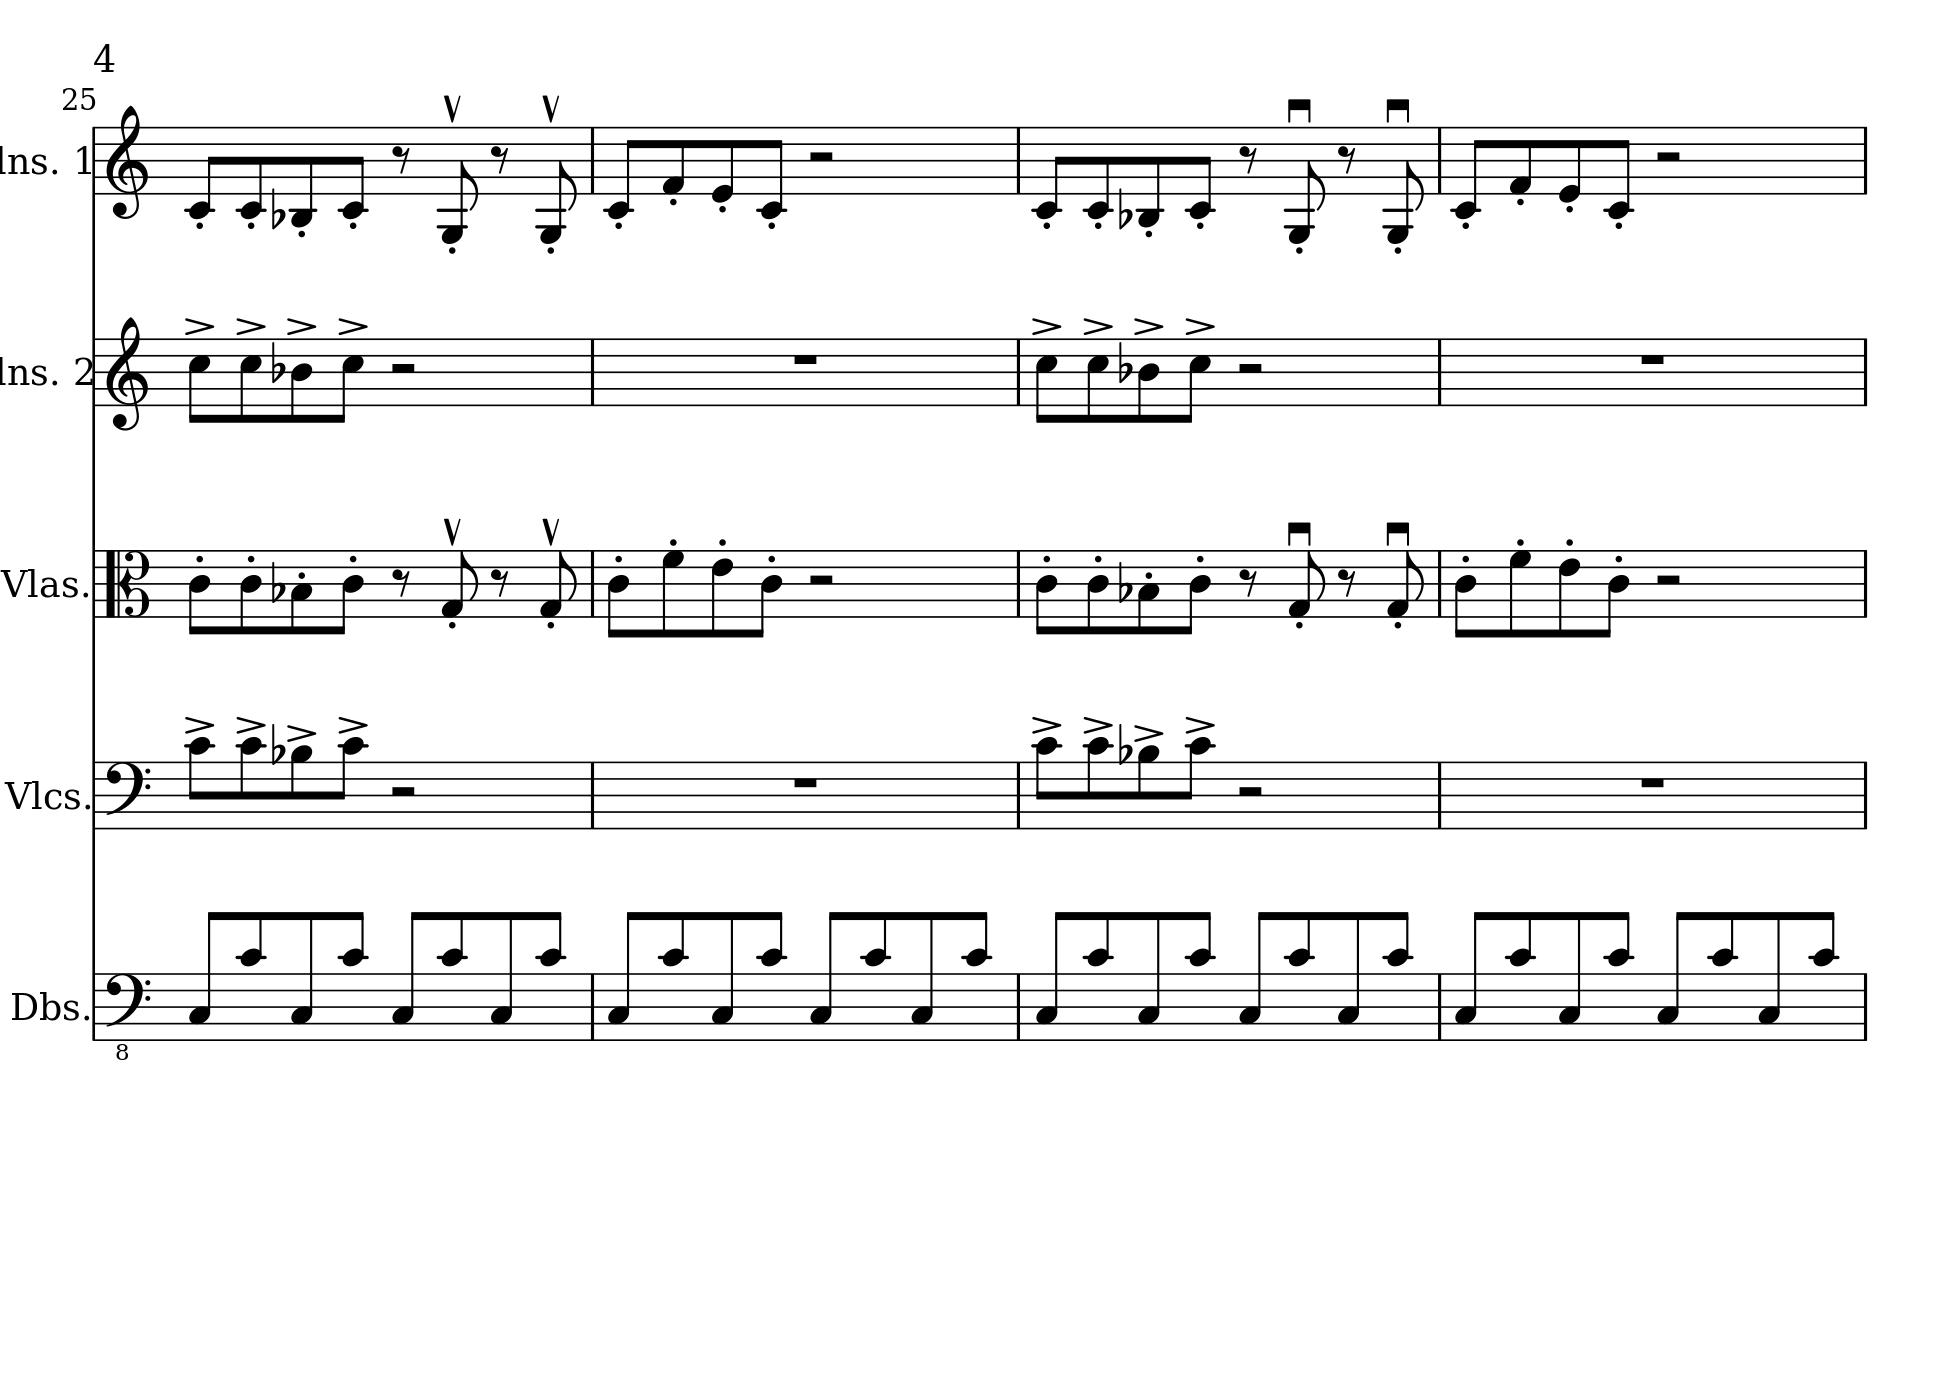2: (60, 85, 79, 112)
4: (93, 40, 115, 72)
5: (79, 84, 96, 112)
8_-2: (184, 123, 223, 220), (603, 124, 640, 220), (1450, 124, 1488, 220), (1032, 124, 1068, 217), (1185, 124, 1216, 219), (235, 124, 265, 220), (337, 124, 367, 220), (756, 124, 786, 220), (1605, 124, 1633, 220), (1084, 124, 1113, 219)
8_-3: (288, 124, 316, 226), (1137, 124, 1164, 226)
8_-5: (1284, 124, 1327, 244), (436, 124, 478, 246), (535, 123, 577, 244), (1383, 124, 1425, 244)
8_0: (709, 124, 736, 205), (1557, 124, 1584, 204)
8_1: (1287, 547, 1329, 618), (439, 547, 480, 616), (1386, 549, 1426, 618), (538, 547, 577, 618), (660, 124, 687, 196), (1507, 124, 1534, 196)
8_10: (1707, 909, 1738, 1044), (235, 907, 265, 1042), (535, 907, 565, 1042), (1185, 907, 1215, 1042), (1603, 907, 1633, 1042), (1809, 907, 1839, 1042), (337, 909, 367, 1042), (658, 909, 688, 1042), (961, 909, 991, 1042), (1083, 909, 1113, 1042), (1284, 909, 1314, 1042), (1383, 909, 1413, 1042), (1506, 909, 1536, 1042), (438, 909, 466, 1042), (757, 909, 786, 1042), (861, 909, 889, 1042), (1176, 735, 1215, 831), (328, 733, 366, 831), (1033, 733, 1065, 831), (184, 735, 216, 829), (1086, 735, 1114, 831), (237, 736, 265, 831)
8_3: (184, 907, 223, 1039), (808, 907, 846, 1044), (390, 907, 426, 1044), (606, 909, 642, 1044), (1035, 907, 1071, 1042), (1656, 907, 1692, 1042), (1455, 909, 1489, 1042), (1239, 907, 1272, 1042), (1758, 907, 1783, 1042), (489, 910, 514, 1044), (709, 910, 735, 1044), (909, 910, 934, 1044), (1137, 910, 1162, 1044), (1336, 910, 1362, 1044), (288, 910, 313, 1042), (1558, 910, 1584, 1042), (288, 547, 315, 636), (1137, 547, 1162, 636)
8_4: (330, 547, 367, 636), (1596, 547, 1632, 639), (748, 547, 783, 639), (1179, 547, 1215, 634), (186, 547, 213, 637), (1033, 547, 1060, 636), (238, 547, 265, 634), (1086, 547, 1113, 634), (606, 549, 631, 640), (1453, 549, 1479, 640), (1137, 336, 1162, 424), (289, 337, 315, 424)
8_5: (328, 336, 364, 424), (1179, 336, 1212, 424), (186, 336, 211, 424), (1033, 336, 1059, 424), (1086, 336, 1110, 426), (238, 337, 262, 424)
8_6: (709, 547, 735, 640), (1557, 547, 1582, 640)
8_7: (1507, 549, 1534, 640), (661, 547, 687, 640)
8_9: (288, 742, 315, 832), (1135, 742, 1162, 831)
Accent_above: (282, 313, 319, 337), (181, 313, 217, 337), (232, 313, 268, 337), (334, 313, 370, 337), (1182, 313, 1218, 337), (1029, 312, 1063, 336), (1080, 313, 1114, 336), (1131, 315, 1165, 336), (285, 721, 316, 742), (1132, 721, 1164, 742), (1032, 712, 1062, 733), (184, 712, 214, 733), (1185, 712, 1215, 733), (234, 714, 265, 733), (1081, 714, 1113, 733), (337, 714, 367, 733)
Cclef: (103, 547, 151, 619)
Dbs: (7, 990, 79, 1024)
Down_bow: (1284, 520, 1315, 547), (1384, 96, 1413, 123), (1287, 96, 1314, 123), (1386, 520, 1413, 544)
Fclef: (102, 759, 153, 831)
Flat: (1116, 337, 1134, 384), (268, 337, 286, 382), (1116, 559, 1134, 604), (268, 559, 286, 603), (268, 184, 285, 231), (1116, 184, 1132, 231), (268, 721, 285, 766), (1116, 721, 1132, 766)
Gclef: (105, 313, 148, 430), (105, 103, 148, 217)
Lower_Fclef: (100, 970, 151, 1060)
Rests1: (789, 348, 822, 369), (1638, 349, 1669, 370), (789, 772, 822, 792), (1636, 772, 1669, 792)
Rests2: (388, 358, 420, 379), (805, 145, 837, 165), (1236, 358, 1267, 378), (805, 570, 837, 589), (1651, 147, 1683, 165), (1653, 571, 1684, 589), (388, 783, 418, 799), (1236, 783, 1266, 799)
Rests4: (1237, 565, 1260, 598), (390, 567, 412, 598)
Rests8: (487, 142, 511, 175), (390, 142, 412, 175), (489, 565, 511, 598), (1336, 565, 1359, 598), (1237, 142, 1260, 174), (1336, 142, 1359, 174)
Single_barline: (1857, 337, 1875, 406), (1857, 126, 1875, 193), (1857, 549, 1875, 616), (85, 550, 103, 616), (1011, 973, 1029, 1039), (583, 973, 601, 1039), (1857, 760, 1873, 828), (583, 339, 600, 405), (1011, 339, 1027, 405), (1431, 549, 1447, 615), (1011, 550, 1027, 616), (583, 762, 600, 828), (1011, 762, 1027, 828), (1431, 762, 1447, 828), (1857, 973, 1873, 1039), (1432, 973, 1449, 1039), (583, 550, 600, 615), (88, 337, 103, 406), (1431, 127, 1446, 195), (87, 762, 102, 829), (583, 127, 598, 193), (1011, 127, 1026, 193), (87, 973, 102, 1039), (1432, 339, 1447, 403), (88, 124, 102, 193)
Tremolo_bar: (535, 516, 562, 546), (441, 91, 465, 124), (439, 517, 463, 550), (540, 91, 562, 124)
Vla: (1, 562, 58, 606)
Vlc: (1, 772, 64, 816)
